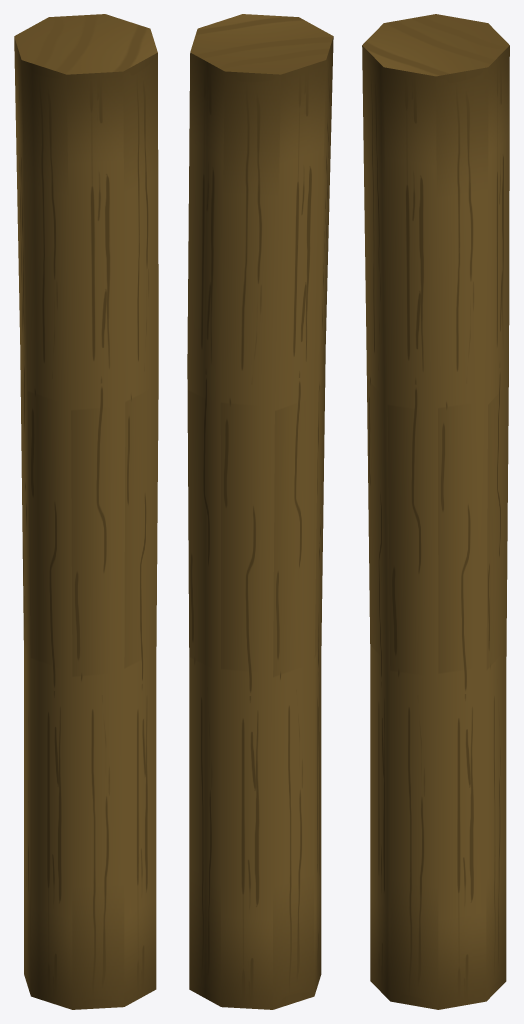
The model's file is Pole.FBX.
3 renders of one model, left to right at view 1: azimuth 30°, elevation 25°; view 2: azimuth 150°, elevation 25°; view 3: azimuth 270°, elevation 25°, orthographic.
Parts seen in each view (by area): view 1: Poteau; view 2: Poteau; view 3: Poteau.
Boxes of the visible parts, x1=… form: Poteau: x1=14, y1=14, x2=158, y2=1009; Poteau: x1=187, y1=14, x2=333, y2=1009; Poteau: x1=362, y1=14, x2=509, y2=1009.
Size of the model in its own units: 3.22 by 22.11 by 3.17.
